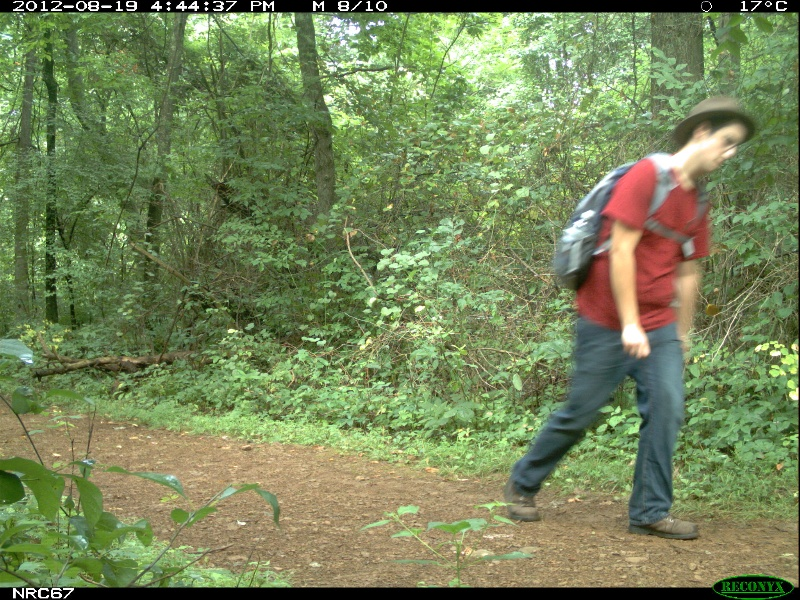human: (507, 100, 759, 539)
human face: (687, 120, 746, 176)
human legs: (494, 310, 704, 544)
